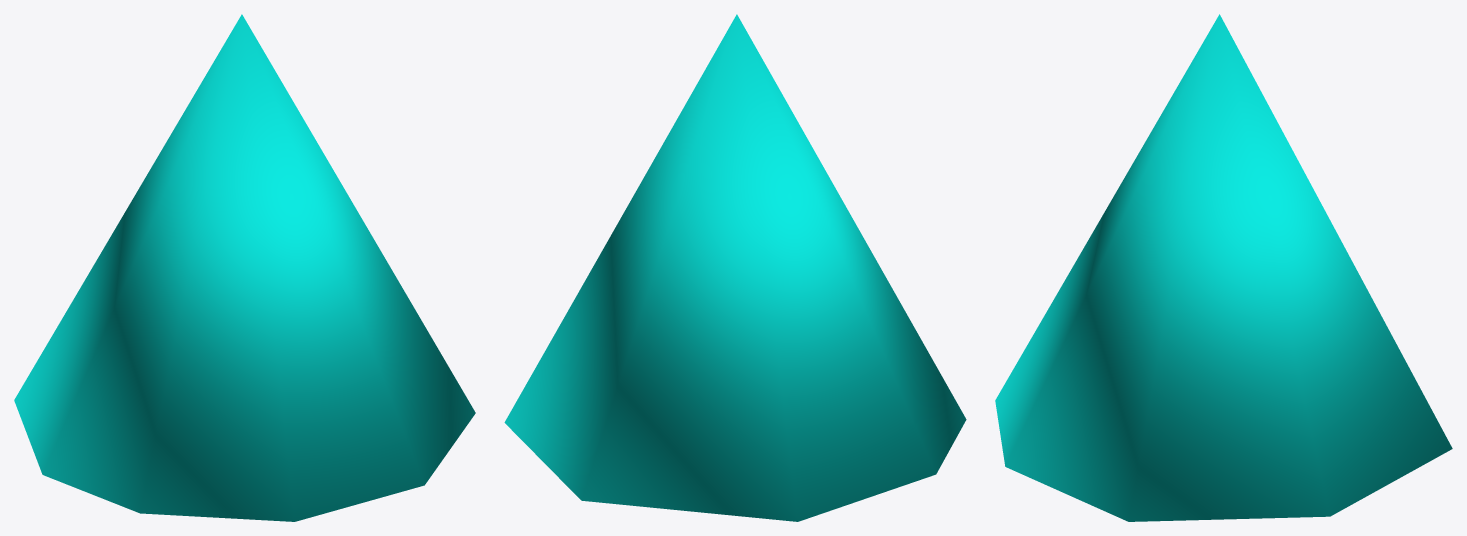
The picture shows the model from 3 angles, left to right: view 1: azimuth 30°, elevation 25°; view 2: azimuth 150°, elevation 25°; view 3: azimuth 270°, elevation 25°; orthographic projection.
Visible parts, largest first — view 1: Cone; view 2: Cone; view 3: Cone.
Part boxes in pixels (x1,y1,x2,y2): Cone: (14, 14, 475, 521); Cone: (504, 14, 966, 521); Cone: (995, 14, 1452, 521).
Bounding box in the file's own units: 197 × 200 × 200.
